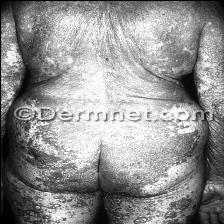Non-Cancerous Skin Condition: (18, 0, 224, 103), (7, 123, 198, 224)
